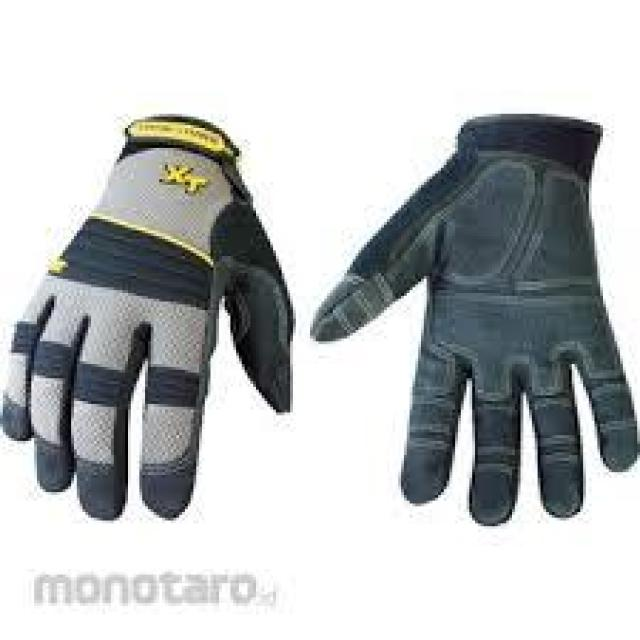Gloves: (312, 103, 636, 527), (8, 103, 302, 527)
